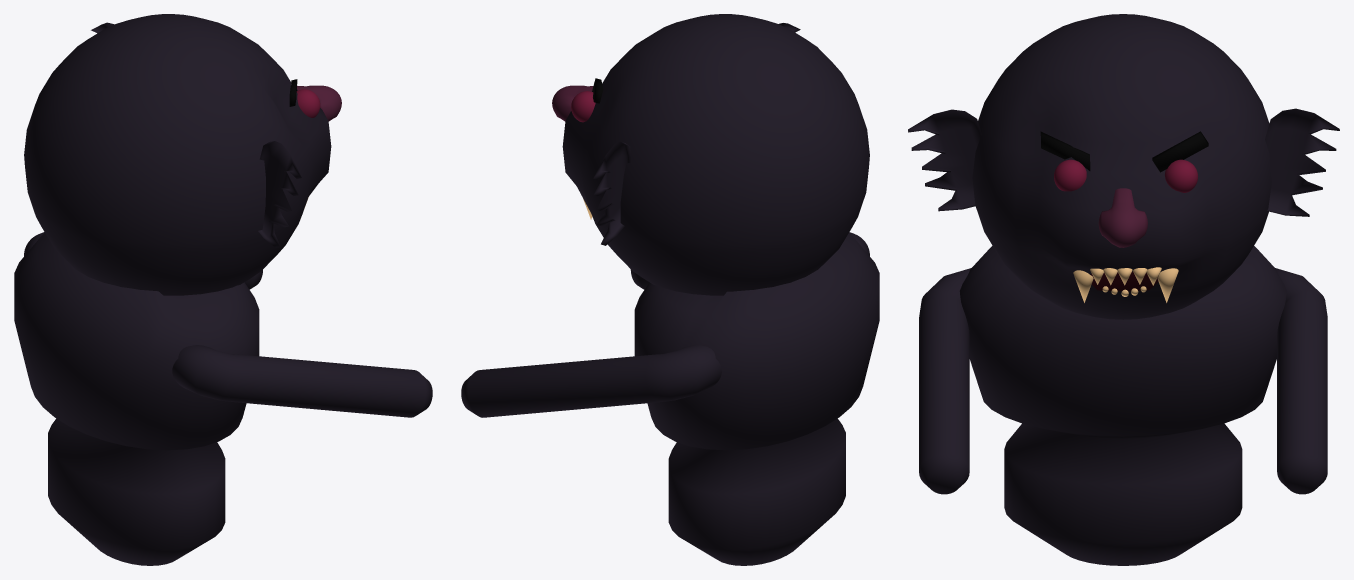
The model's file is enemy.fbx.
3 views of the same model, side by side, from view 1: azimuth 30°, elevation 25°; view 2: azimuth 150°, elevation 25°; view 3: azimuth 270°, elevation 25° (orthographic). The views are drawn at different scales.
Visible parts, largest first — view 1: Enemy; view 2: Enemy; view 3: Enemy.
Part boxes in pixels (x1,y1,x2,y2): Enemy: (14,14,432,565); Enemy: (461,14,879,565); Enemy: (908,14,1339,565).
Bounding box in the file's own units: 218 × 350 × 256.
